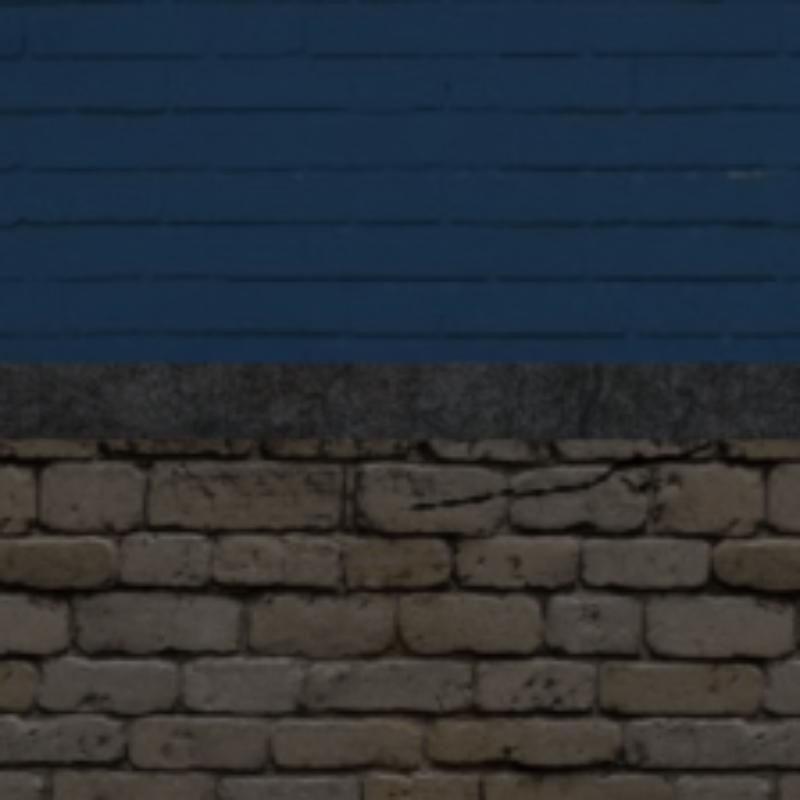pothole: (407, 439, 714, 507)
